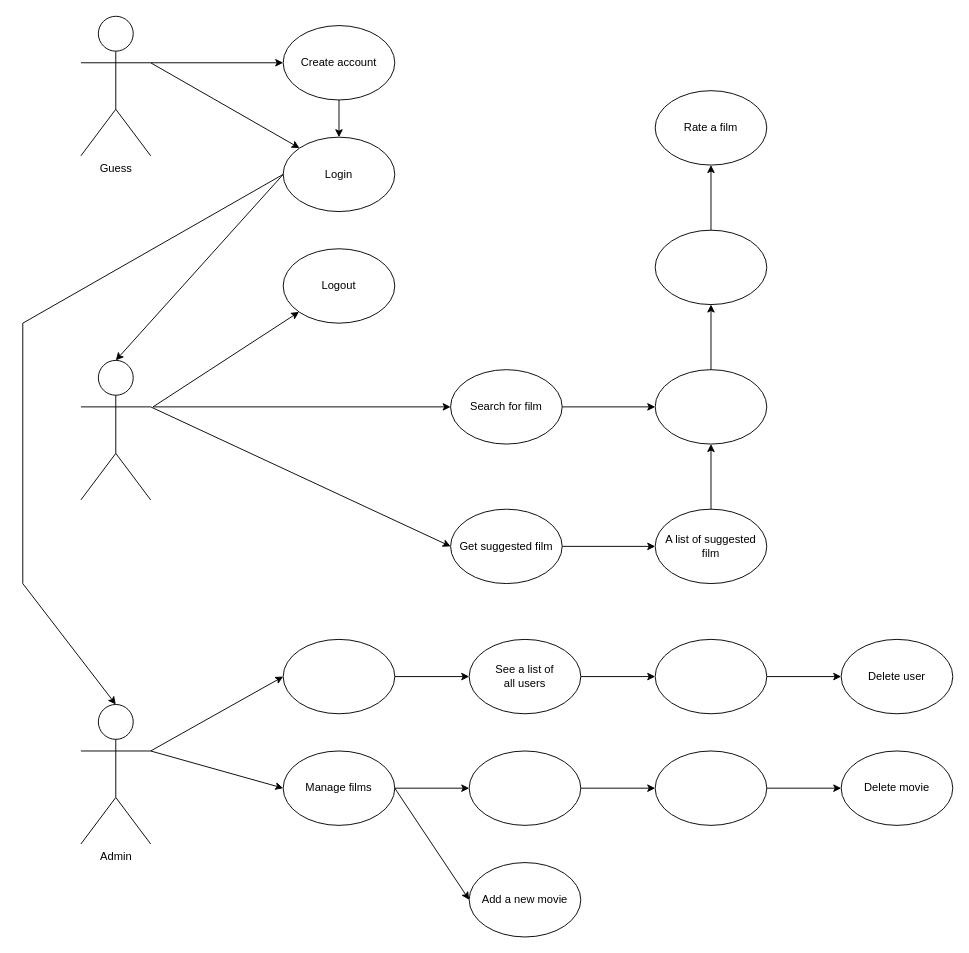
This 969x953 diagram has some shape labels left out. The shapes that lost their labels are listed below. From the top down, each one's centre as x and y in pixels, then its label:
At [710,267]: "See a specific film page".
At [710,406]: "See a list of films".
At [115,429]: "User".
At [338,676]: "Manage users".
At [710,676]: "See detail of a specific user".
At [524,787]: "See a list of all movies".
At [710,787]: "See detail of a specific movie".
